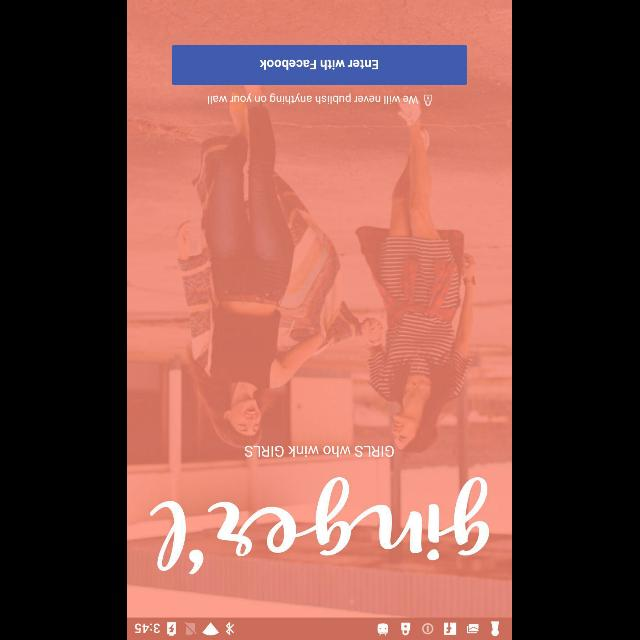backgroundimage: (128, 0, 512, 618)
image: (150, 476, 490, 576)
text: (208, 93, 434, 107), (244, 444, 396, 458)
textbutton: (172, 45, 468, 85)
uppertaskbar: (128, 617, 512, 639)
